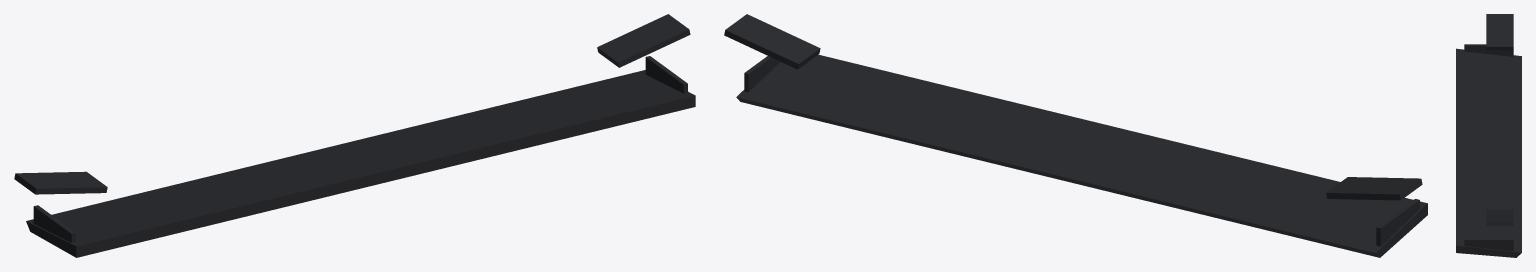
File: bumper_splitter.glb
The picture shows the model from 3 angles, left to right: view 1: azimuth 30°, elevation 25°; view 2: azimuth 150°, elevation 25°; view 3: azimuth 270°, elevation 25°; orthographic projection. The views are drawn at different scales.
Parts seen in each view (by area): view 1: bumper_splitter__mesh; view 2: bumper_splitter__mesh; view 3: bumper_splitter__mesh.
Boxes of the visible parts, x1=… form: bumper_splitter__mesh: x1=14, y1=14, x2=695, y2=257; bumper_splitter__mesh: x1=724, y1=14, x2=1427, y2=257; bumper_splitter__mesh: x1=1456, y1=14, x2=1521, y2=257.
Bounding box in the file's own units: 1.8 × 0.1681 × 0.24.
Materials: 1 (1 with a texture image).
